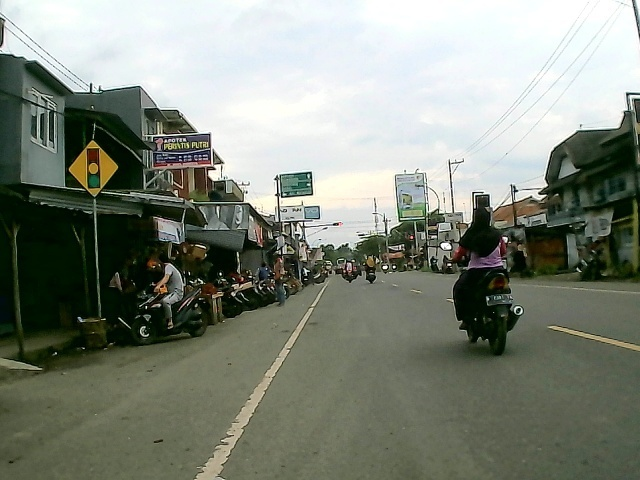Lampu isyarat: (66, 139, 122, 199)
